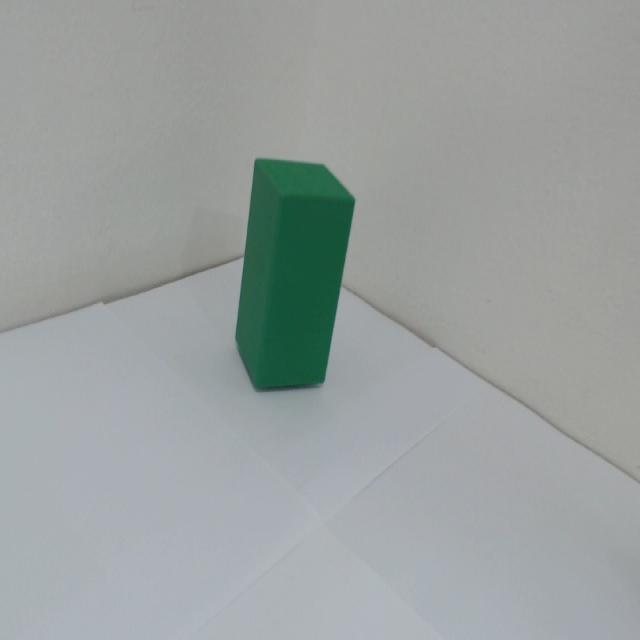cube: (198, 123, 388, 498), (193, 106, 354, 438)
